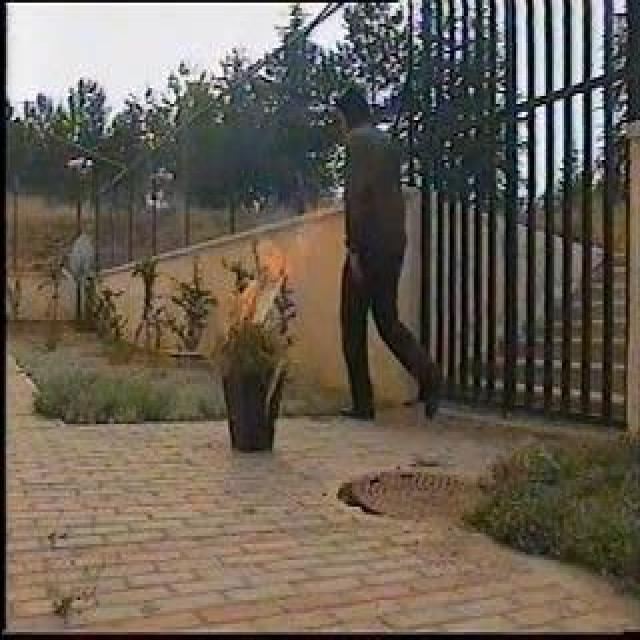fire: (234, 246, 287, 320)
